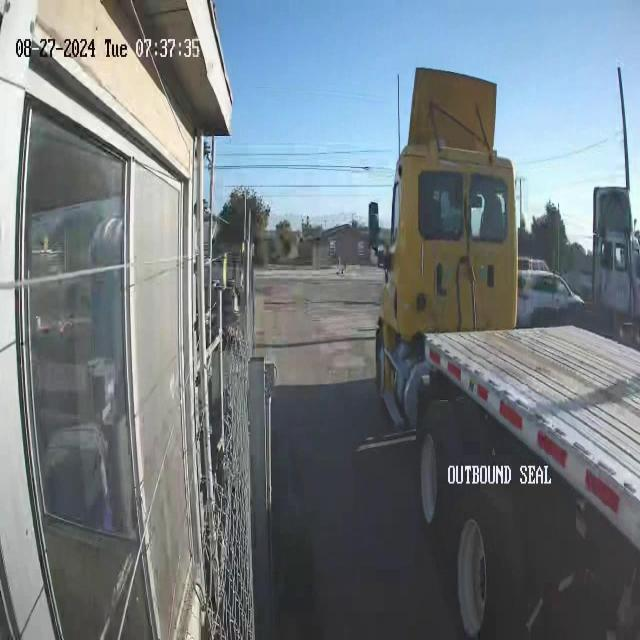TRUCK_OUT: (366, 69, 634, 640)
